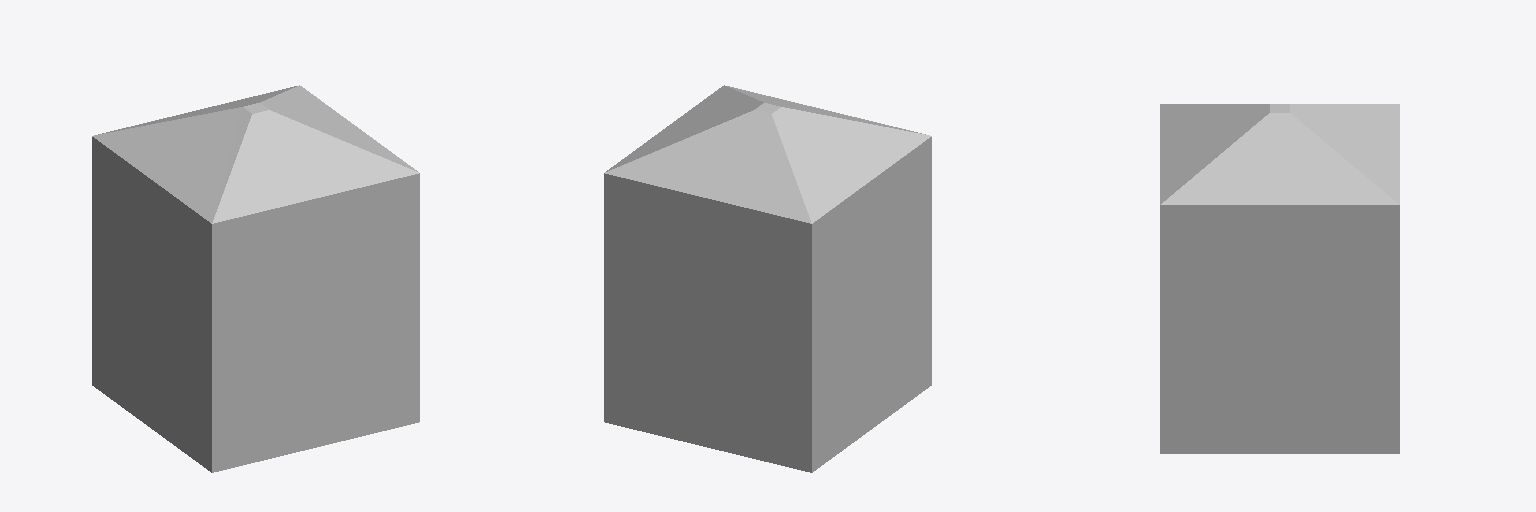
File: thirdbuilding.obj
3 views of the same model, side by side, from view 1: azimuth 30°, elevation 25°; view 2: azimuth 150°, elevation 25°; view 3: azimuth 270°, elevation 25° (orthographic).
Size of the model in its own units: 7 by 9.48 by 7.